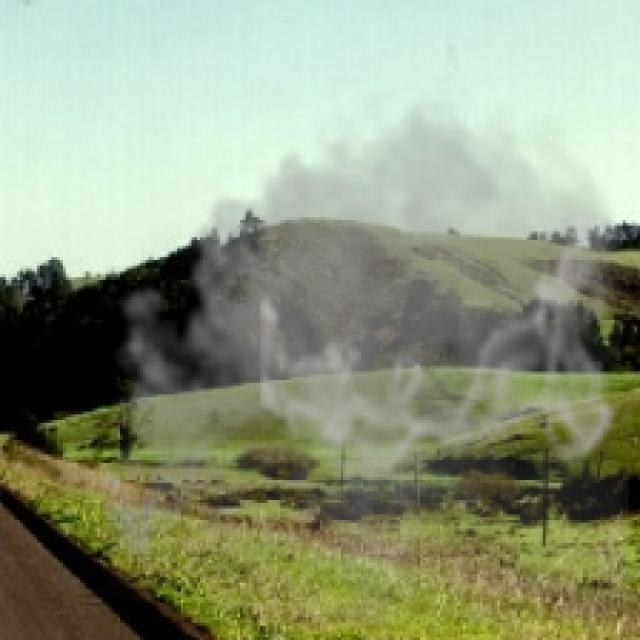smoke: (83, 74, 628, 626)
